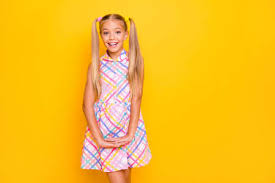person: (98, 14, 129, 53)
